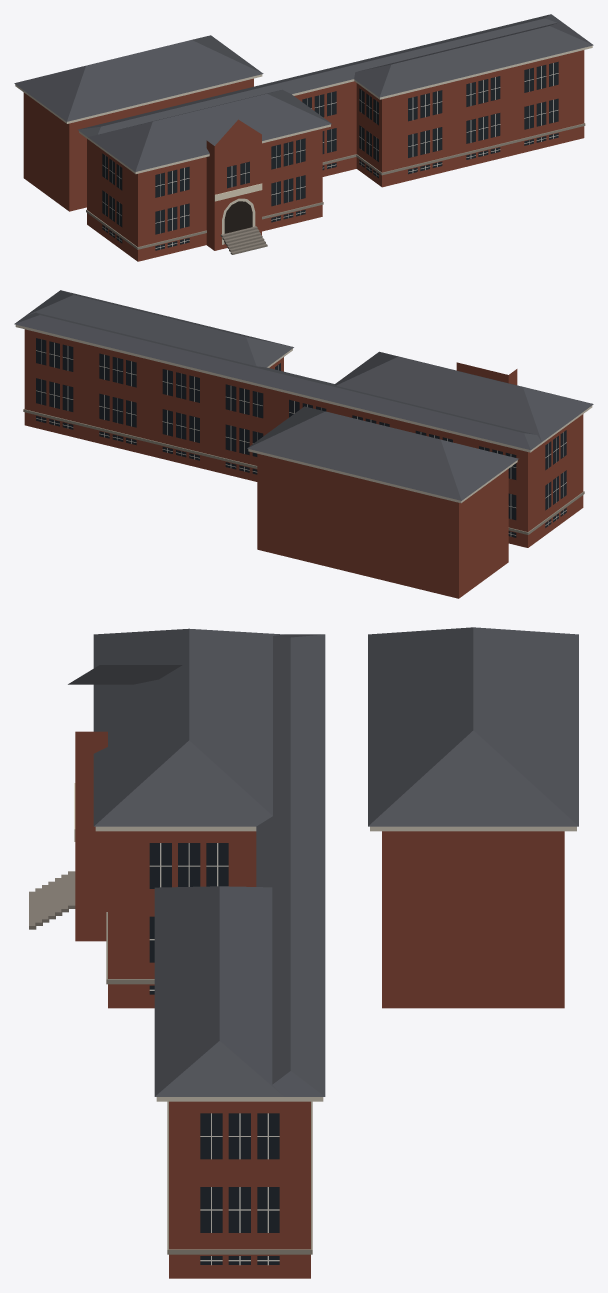
The model's file is centennial-school-1961.glb.
3 renders of one model, top to bottom at view 1: azimuth 30°, elevation 25°; view 2: azimuth 150°, elevation 25°; view 3: azimuth 270°, elevation 25°, orthographic. The views are drawn at different scales.
Parts seen in each view (by area): view 1: kit-centennial-school-1961; view 2: kit-centennial-school-1961; view 3: kit-centennial-school-1961.
Boxes of the visible parts, left/top/right/bottom form: kit-centennial-school-1961: left=14, top=14, right=593, bottom=261; kit-centennial-school-1961: left=14, top=290, right=593, bottom=598; kit-centennial-school-1961: left=29, top=627, right=578, bottom=1278.
Bounding box in the file's own units: 53.9 × 13.77 × 27.09.
